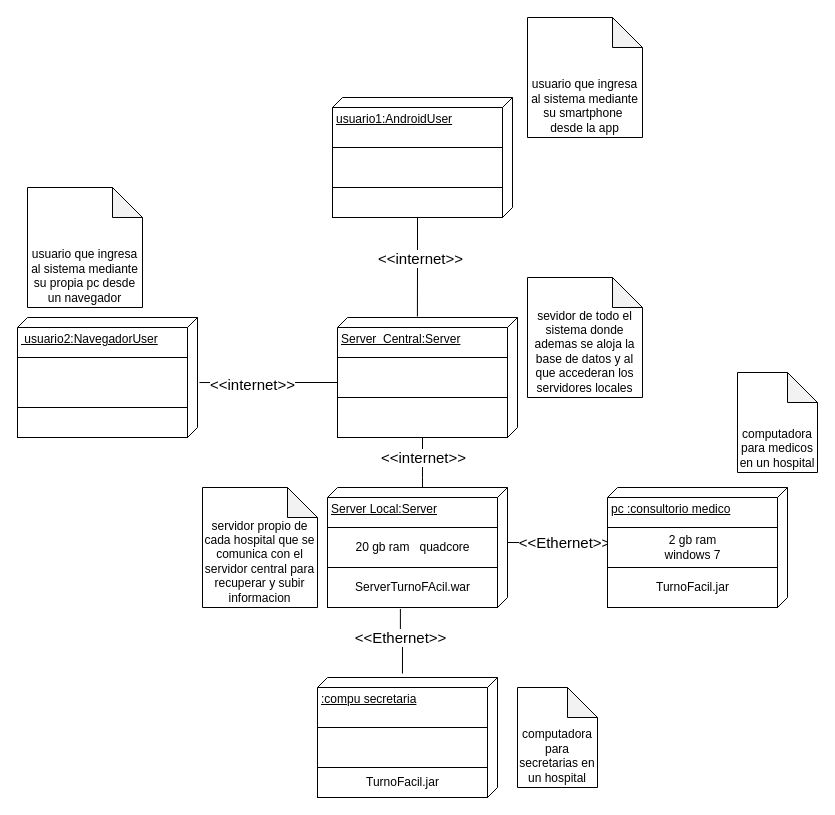
Image size: 835x815. Some labels were removed from this diagram. The shapes that lost their labels are listed below. From the top down, each one's centre as x and y in pixels, then its label:
(417,167): android 4.3 ios 6
(417,202): TurnoFacil.apk
(102,382): chroe,firefox,edge
(422,377): 40 gb ram octacore
(102,422): TurnoFacil.html
(422,417): ServerTurnoFAcil.war db.exe
(402,747): 2 sb ram windows 7
